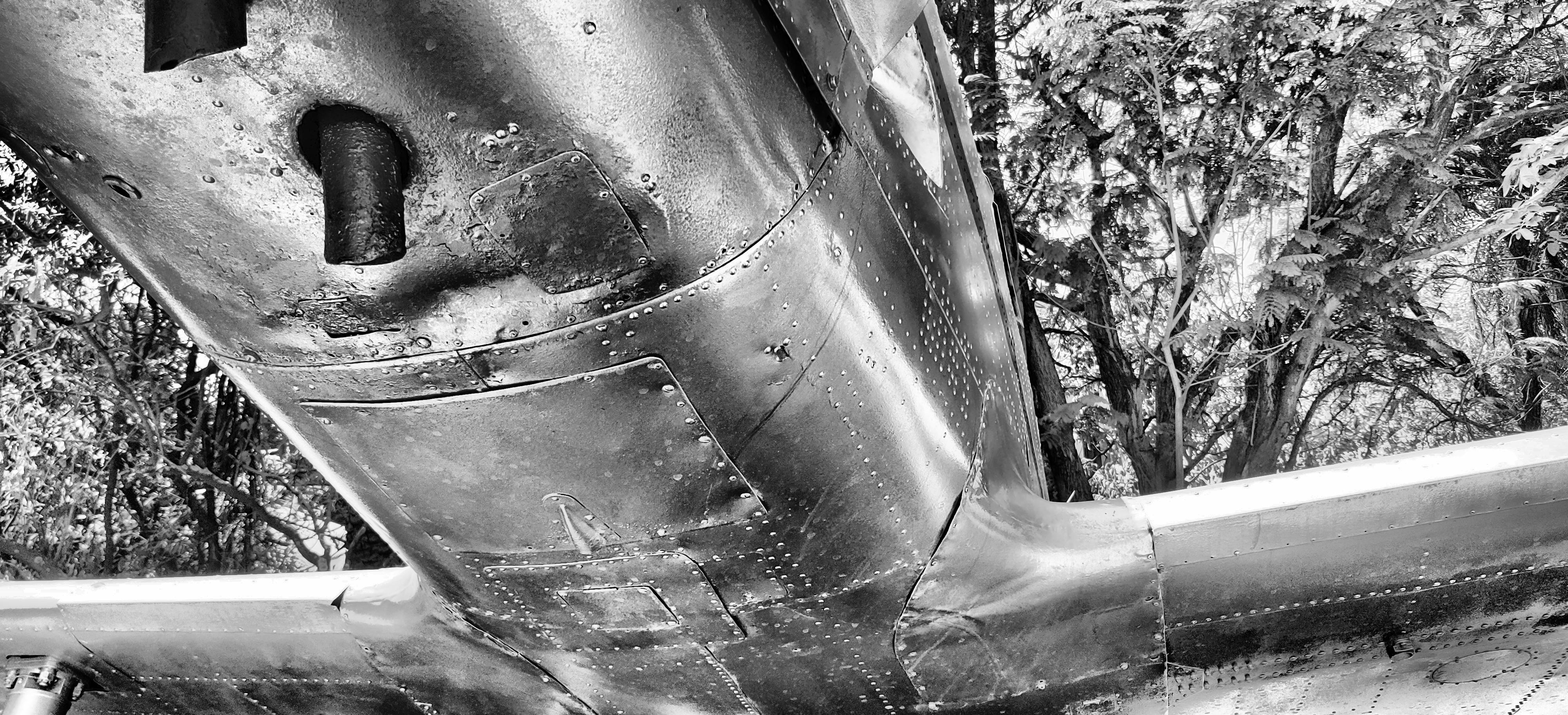crack: (49, 144, 77, 162), (330, 587, 349, 613)
dent: (406, 268, 524, 347), (967, 564, 1049, 609), (897, 605, 986, 633), (963, 445, 989, 503), (1533, 608, 1568, 636), (729, 488, 753, 507), (1135, 551, 1155, 556)
missing-head: (521, 320, 529, 327), (622, 224, 630, 230), (622, 294, 630, 300), (794, 183, 800, 191), (1145, 595, 1153, 601), (327, 353, 336, 358), (359, 409, 367, 414), (1151, 655, 1159, 660), (720, 249, 726, 255), (381, 483, 388, 487), (491, 374, 496, 379), (528, 546, 534, 550), (794, 647, 799, 651), (685, 624, 689, 629), (365, 646, 368, 651), (1260, 547, 1265, 550), (813, 593, 817, 596), (644, 569, 648, 572), (1040, 680, 1044, 683), (1154, 683, 1158, 686), (1286, 543, 1290, 546), (1364, 530, 1368, 533), (799, 599, 802, 602), (1338, 535, 1341, 538), (1160, 533, 1163, 536), (1552, 498, 1555, 501), (1497, 507, 1500, 510), (1445, 516, 1448, 519), (1416, 521, 1419, 524), (1184, 561, 1188, 563), (1210, 557, 1214, 559)
paint-peel-off: (775, 345, 791, 361)
